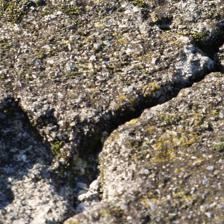Crack: (40, 33, 181, 135)
